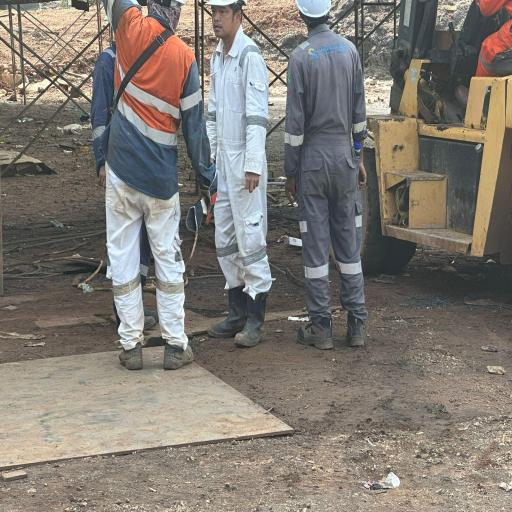safety_shoe: (232, 296, 273, 349), (206, 288, 249, 337), (296, 317, 337, 352), (160, 335, 198, 372), (342, 308, 371, 352), (117, 336, 145, 370)
